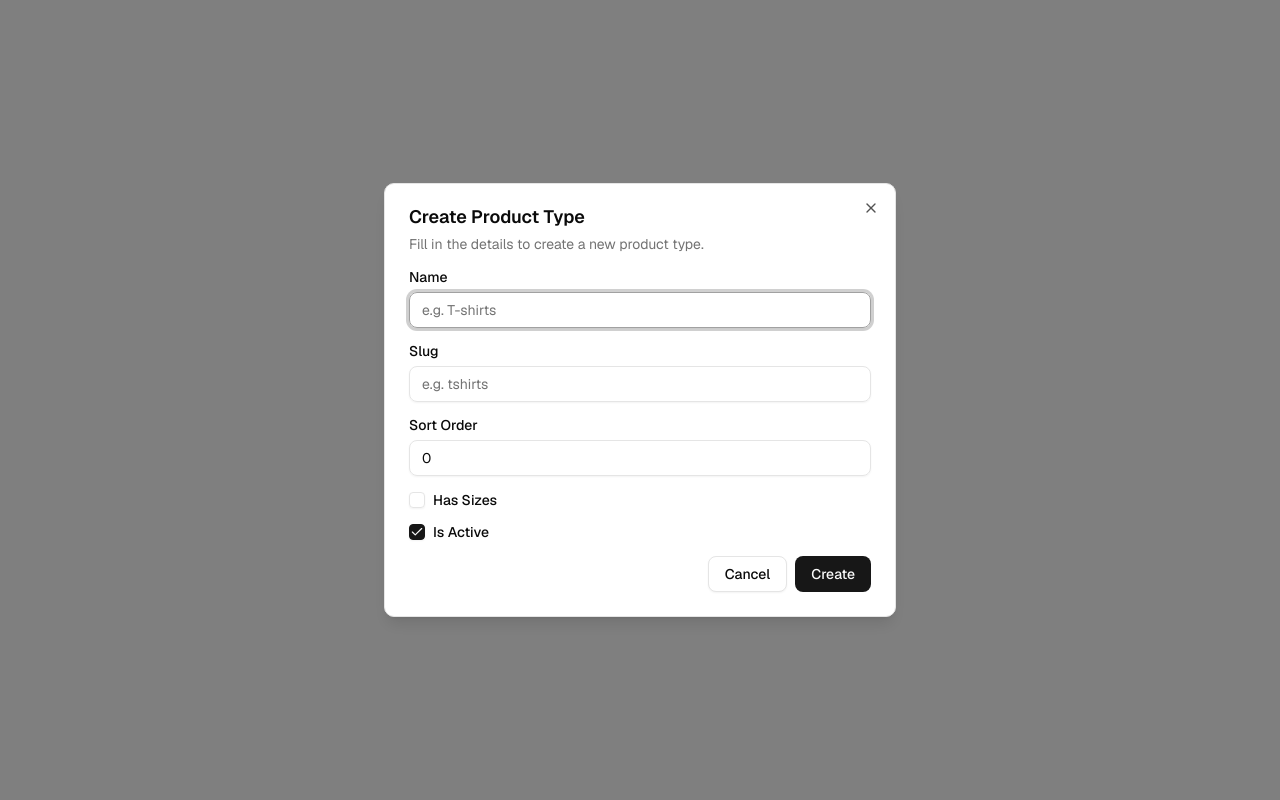
Test case: ProductTypeFormDialog › Create mode › should validate sortOrder is not negative
Type "Test" into the field labelled "Name" at (640, 310), box [409,292,871,328]
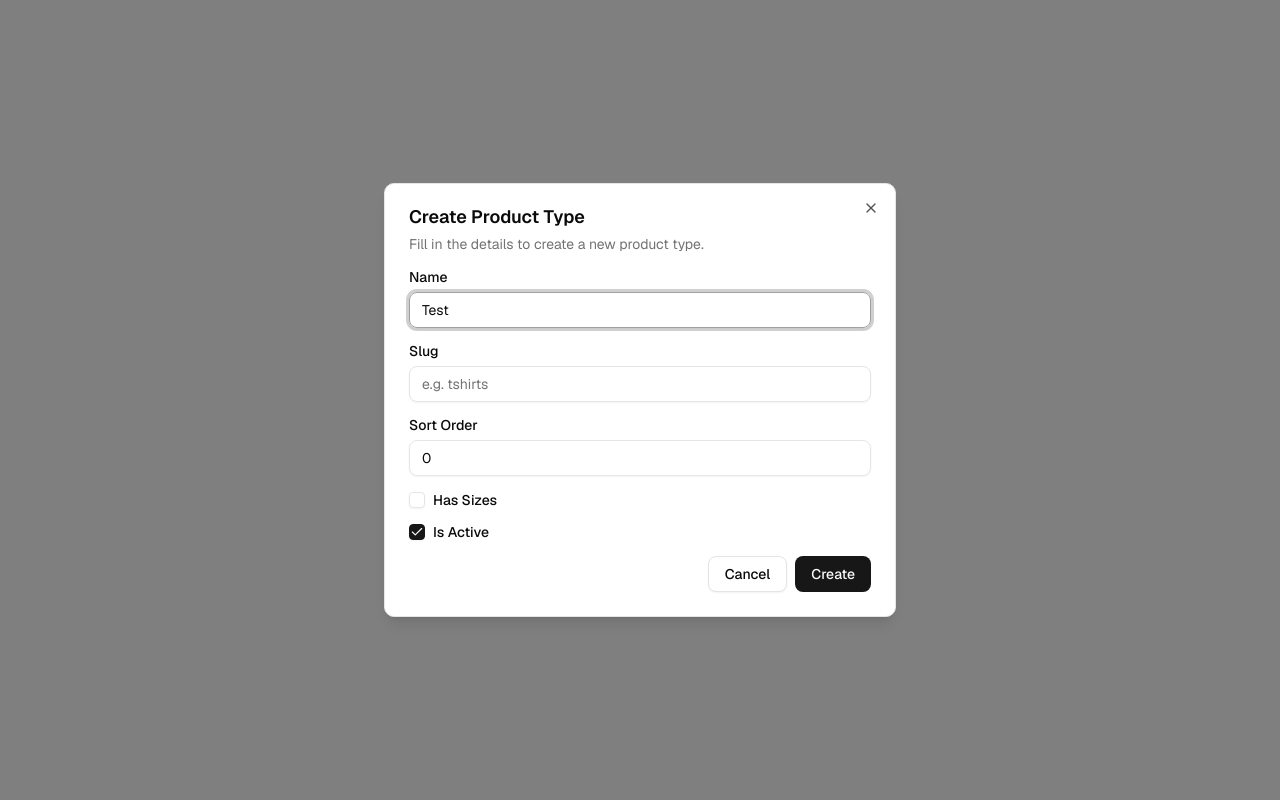
Type "test" into the field labelled "Slug" at (640, 384), box [409,366,871,402]
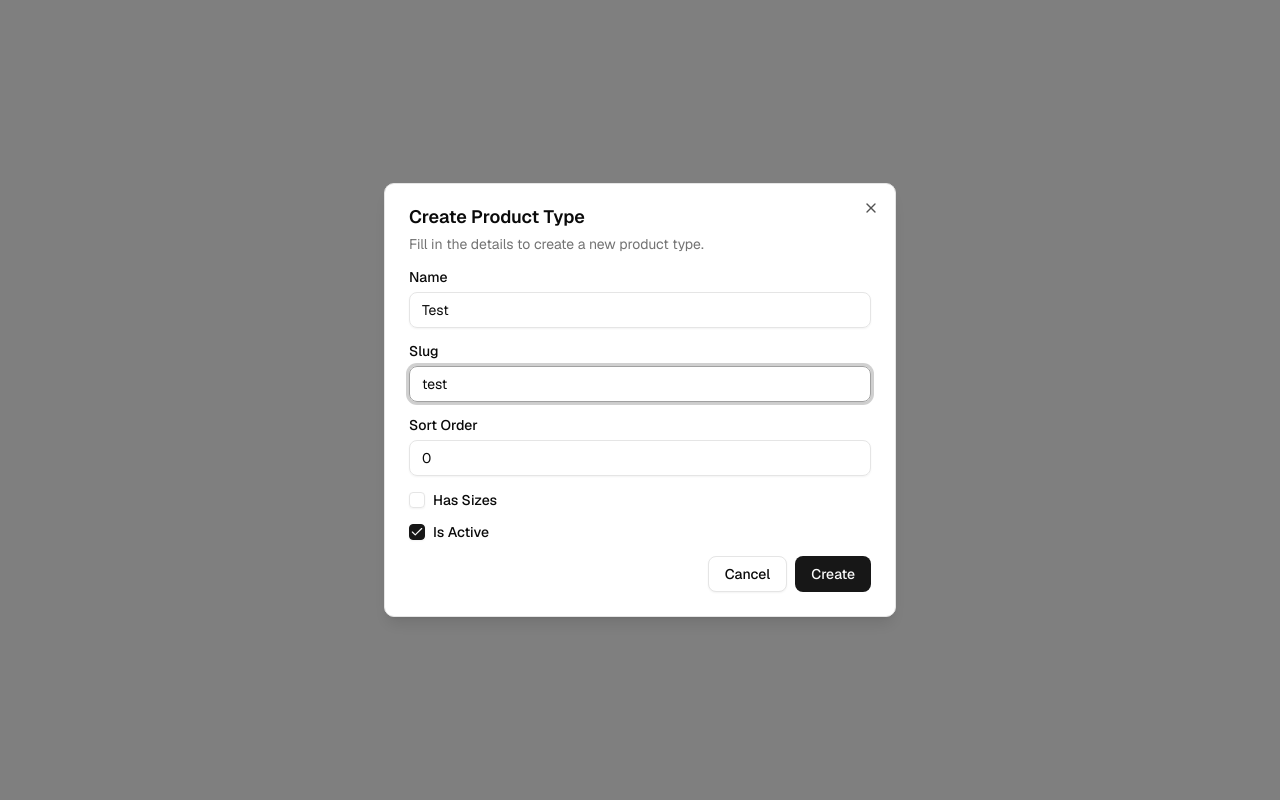
Replace the text in the number field labelled "Sort Order" with "-1" at (640, 458), box [409,440,871,476]
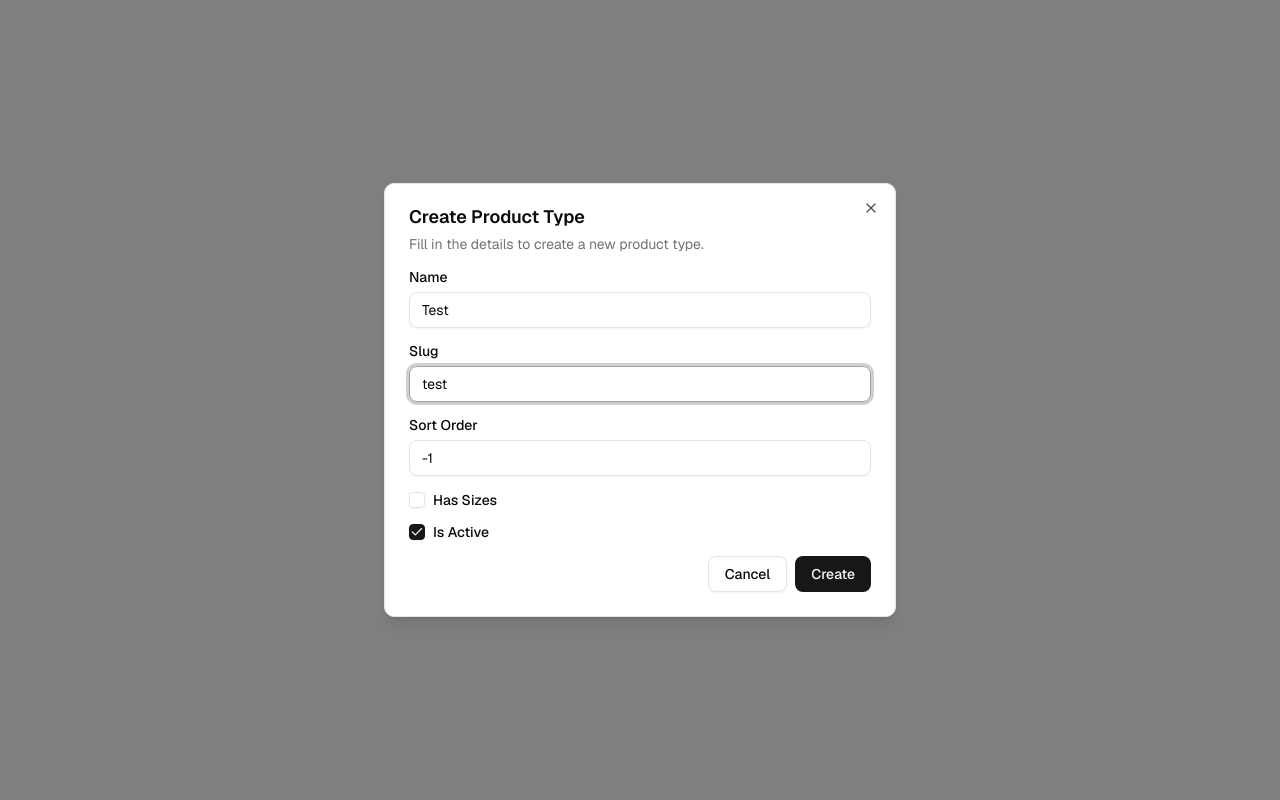
Click the button "Create" at (833, 574), box [795,556,871,592]
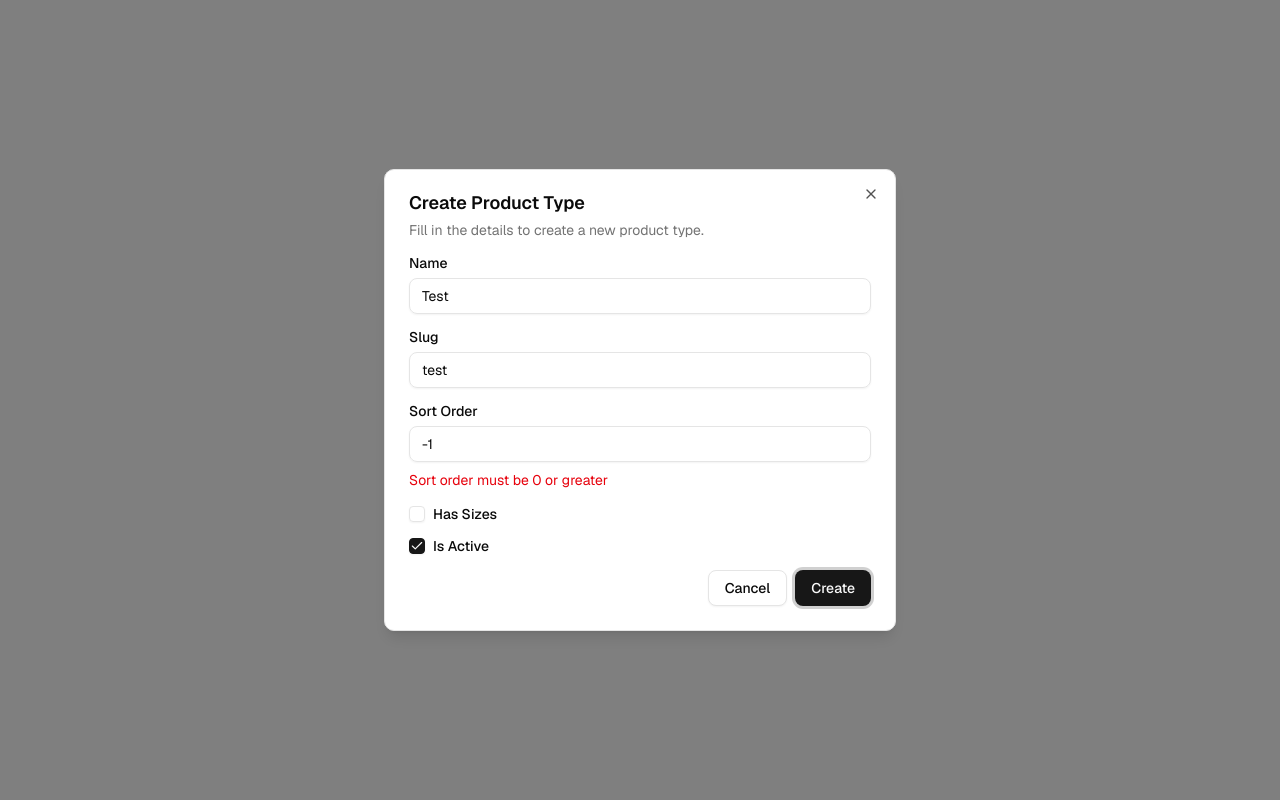
Expected: the text "Sort order must be 0 or greater" is shown, [409,471,608,489]
